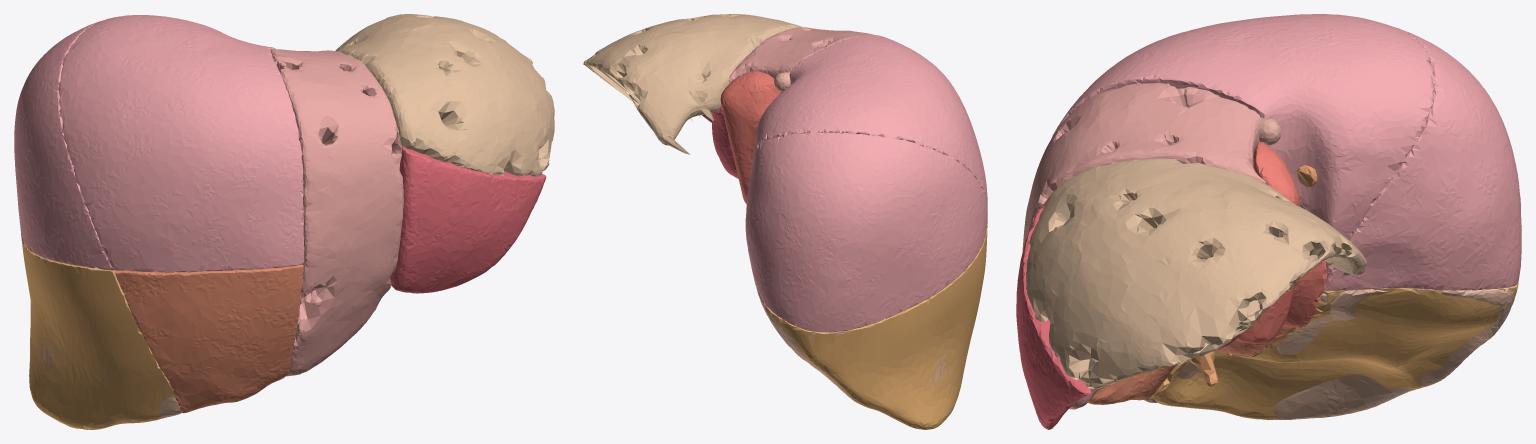
File: fegato.glb
The picture shows the model from 3 angles, left to right: view 1: azimuth 30°, elevation 25°; view 2: azimuth 150°, elevation 25°; view 3: azimuth 270°, elevation 25°; orthographic projection. The views are drawn at different scales.
Parts seen in each view (by area): view 1: hepatovenous segment viii, hepatovenous segment iv, hepatovenous segment ii, hepatovenous segment v, hepatovenous segment vii, hepatovenous segment iii, hepatovenous segment vi; view 2: hepatovenous segment viii, hepatovenous segment vii, hepatovenous segment ii, caudate lobe of liver, hepatovenous segment iv, hepatovenous segment iii, hepatovenous segment vi; view 3: hepatovenous segment viii, hepatovenous segment ii, hepatovenous segment vii, hepatovenous segment iv, hepatovenous segment vi, hepatovenous segment iii, caudate lobe of liver, hepatovenous segment v, anterior inferior segmental tributary of middle hepatic vein.
Boxes of the visible parts, box(x1,y1,x2,y2) form: hepatovenous segment viii: box(14, 15, 304, 272); hepatovenous segment iv: box(270, 49, 403, 376); hepatovenous segment ii: box(335, 14, 554, 176); hepatovenous segment v: box(114, 264, 303, 413); hepatovenous segment vii: box(21, 233, 175, 429); hepatovenous segment iii: box(390, 146, 546, 293); hepatovenous segment vi: box(32, 252, 181, 428); hepatovenous segment viii: box(745, 34, 987, 332); hepatovenous segment vii: box(762, 224, 987, 429); hepatovenous segment ii: box(583, 14, 802, 154); caudate lobe of liver: box(720, 71, 780, 203); hepatovenous segment iv: box(729, 27, 873, 92); hepatovenous segment iii: box(702, 107, 738, 178); hepatovenous segment vi: box(755, 272, 963, 403); hepatovenous segment viii: box(1052, 14, 1521, 291); hepatovenous segment ii: box(1026, 158, 1366, 388); hepatovenous segment vii: box(1152, 282, 1518, 419); hepatovenous segment iv: box(1022, 83, 1268, 409); hepatovenous segment vi: box(1144, 286, 1515, 419); hepatovenous segment iii: box(1016, 206, 1240, 429); caudate lobe of liver: box(1235, 142, 1327, 343); hepatovenous segment v: box(1088, 326, 1291, 404); anterior inferior segmental tributary of middle hepatic vein: box(1259, 117, 1281, 145).
Size of the model in its own units: 207 by 155 by 159.
